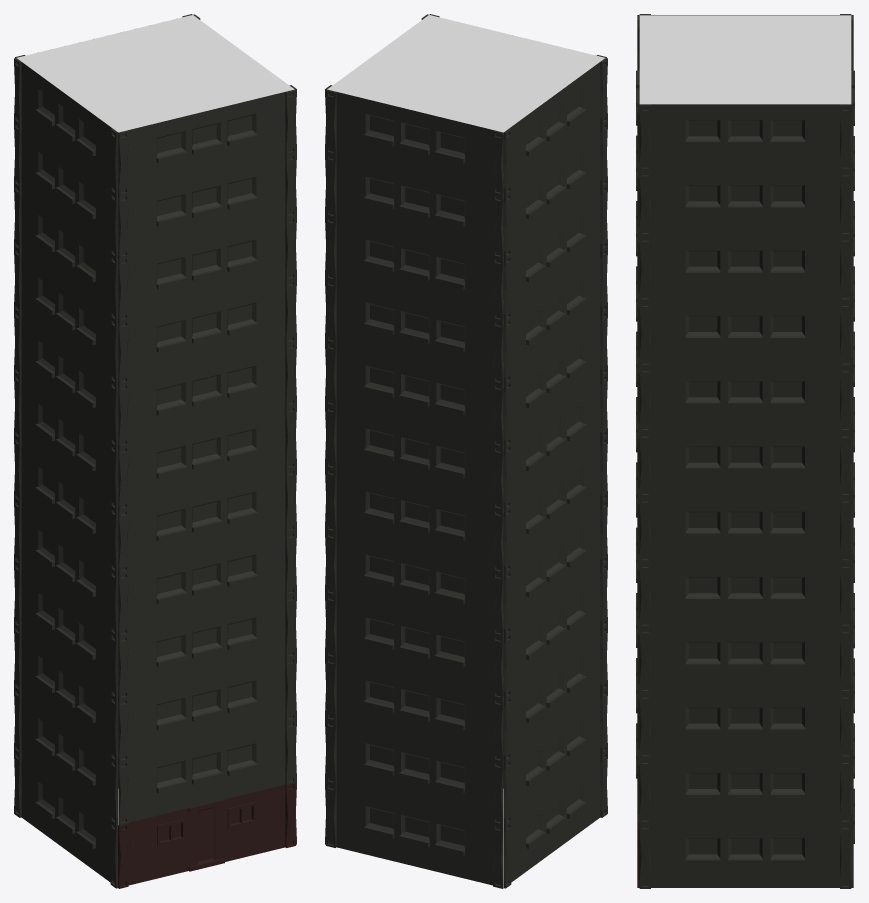
The model's file is Edificio1.FBX.
3 renders of one model, left to right at view 1: azimuth 30°, elevation 25°; view 2: azimuth 150°, elevation 25°; view 3: azimuth 270°, elevation 25°, orthographic. The views are drawn at different scales.
Visible parts, largest first — view 1: Plane006, Muro1, muro048, muro028, muro032, muro024, muro020, muro036, muro008, muro044, muro016, muro040 (+13 smaller); view 2: Plane006, muro046, muro004, muro022, muro026, muro006, muro030, muro010, muro034, muro014, muro018, muro038 (+13 smaller); view 3: Plane006, muro047, muro007, muro023, muro035, muro2, muro011, muro019, muro027, muro031, muro039, muro043 (+3 smaller).
Boxes of the visible parts, bbox=[...] form: Plane006: bbox=[17, 15, 294, 132]; Muro1: bbox=[118, 783, 295, 888]; muro048: bbox=[118, 89, 295, 196]; muro028: bbox=[118, 405, 295, 510]; muro032: bbox=[118, 342, 295, 448]; muro024: bbox=[118, 468, 295, 573]; muro020: bbox=[118, 531, 295, 636]; muro036: bbox=[118, 279, 295, 385]; muro008: bbox=[118, 720, 295, 825]; muro044: bbox=[118, 153, 295, 259]; muro016: bbox=[118, 594, 295, 699]; muro040: bbox=[118, 216, 295, 322]; Plane006: bbox=[327, 15, 604, 132]; muro046: bbox=[326, 89, 503, 196]; muro004: bbox=[326, 783, 503, 888]; muro022: bbox=[326, 468, 503, 573]; muro026: bbox=[326, 405, 503, 510]; muro006: bbox=[326, 720, 503, 825]; muro030: bbox=[326, 342, 503, 447]; muro010: bbox=[326, 657, 503, 762]; muro034: bbox=[326, 279, 503, 385]; muro014: bbox=[326, 594, 503, 699]; muro018: bbox=[326, 531, 503, 636]; muro038: bbox=[326, 216, 503, 322]; Plane006: bbox=[639, 15, 851, 104]; muro047: bbox=[639, 104, 851, 170]; muro007: bbox=[639, 757, 851, 823]; muro023: bbox=[639, 496, 851, 562]; muro035: bbox=[639, 300, 851, 366]; muro2: bbox=[639, 822, 851, 888]; muro011: bbox=[639, 692, 851, 758]; muro019: bbox=[639, 561, 851, 627]; muro027: bbox=[639, 431, 851, 497]; muro031: bbox=[639, 365, 851, 431]; muro039: bbox=[639, 235, 851, 301]; muro043: bbox=[639, 169, 851, 235].
Bounding box in the file's own units: 517 × 2040 × 517.
